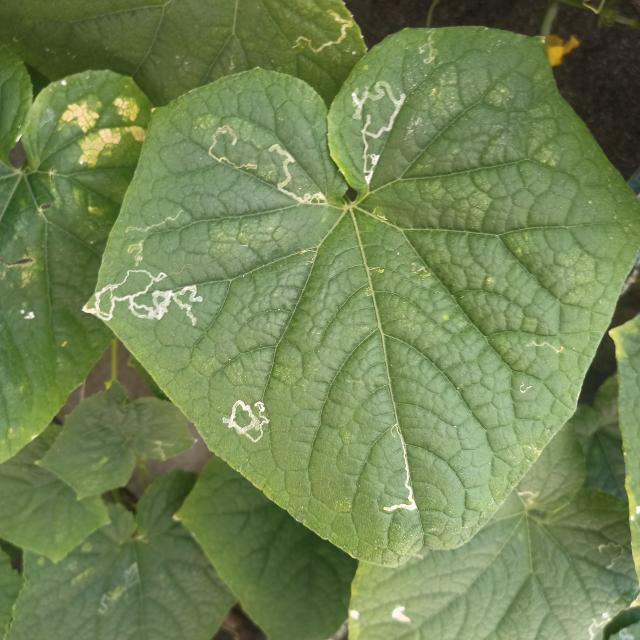disease_cucumber: (61, 94, 148, 165)
